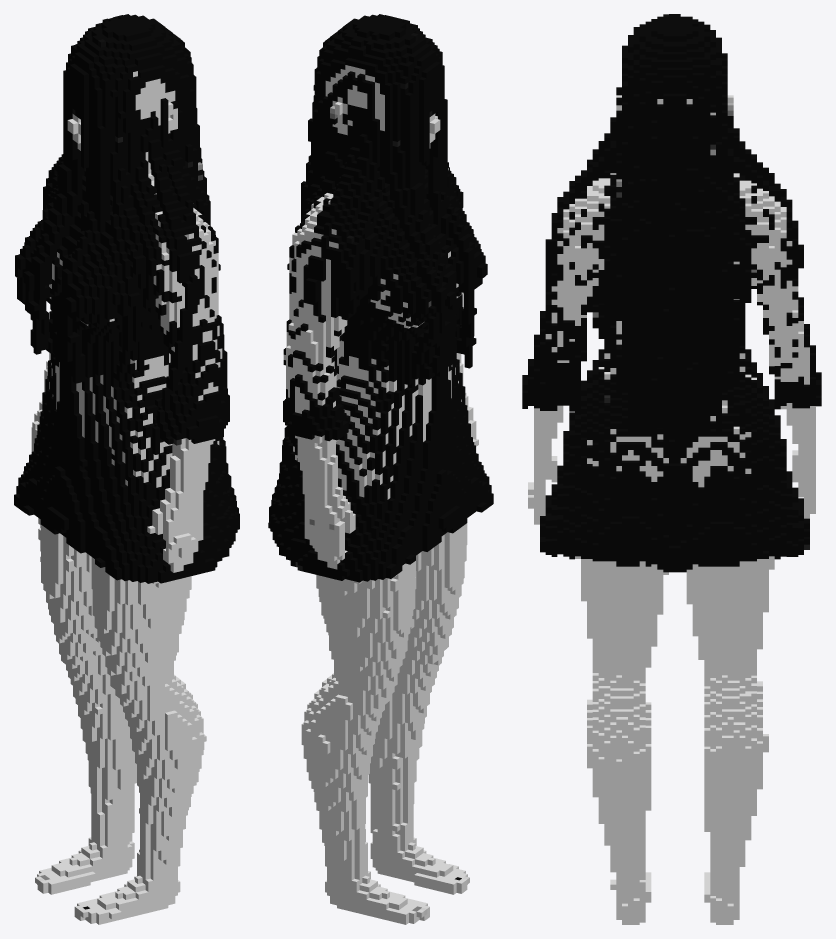
Rendered from Chaser.obj.
The picture shows the model from 3 angles, left to right: view 1: azimuth 30°, elevation 25°; view 2: azimuth 150°, elevation 25°; view 3: azimuth 270°, elevation 25°; orthographic projection. The views are drawn at different scales.
Visible parts, largest first — view 1: chaser_51x167x32; view 2: chaser_51x167x32; view 3: chaser_51x167x32.
Boxes of the visible parts, left/top/right/bottom form: chaser_51x167x32: left=14, top=14, right=239, bottom=924; chaser_51x167x32: left=268, top=14, right=493, bottom=924; chaser_51x167x32: left=522, top=14, right=821, bottom=924.
Bounding box in the file's own units: 0.3963 × 2.07 × 0.6315.
